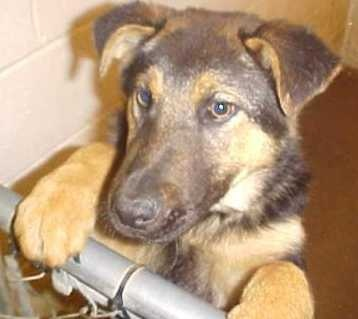dog: (47, 0, 318, 313)
